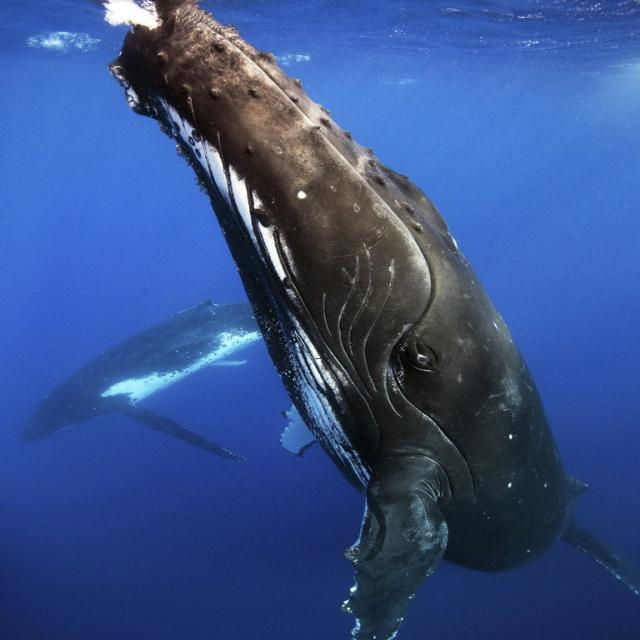whale: (105, 0, 639, 639), (22, 301, 260, 460)
